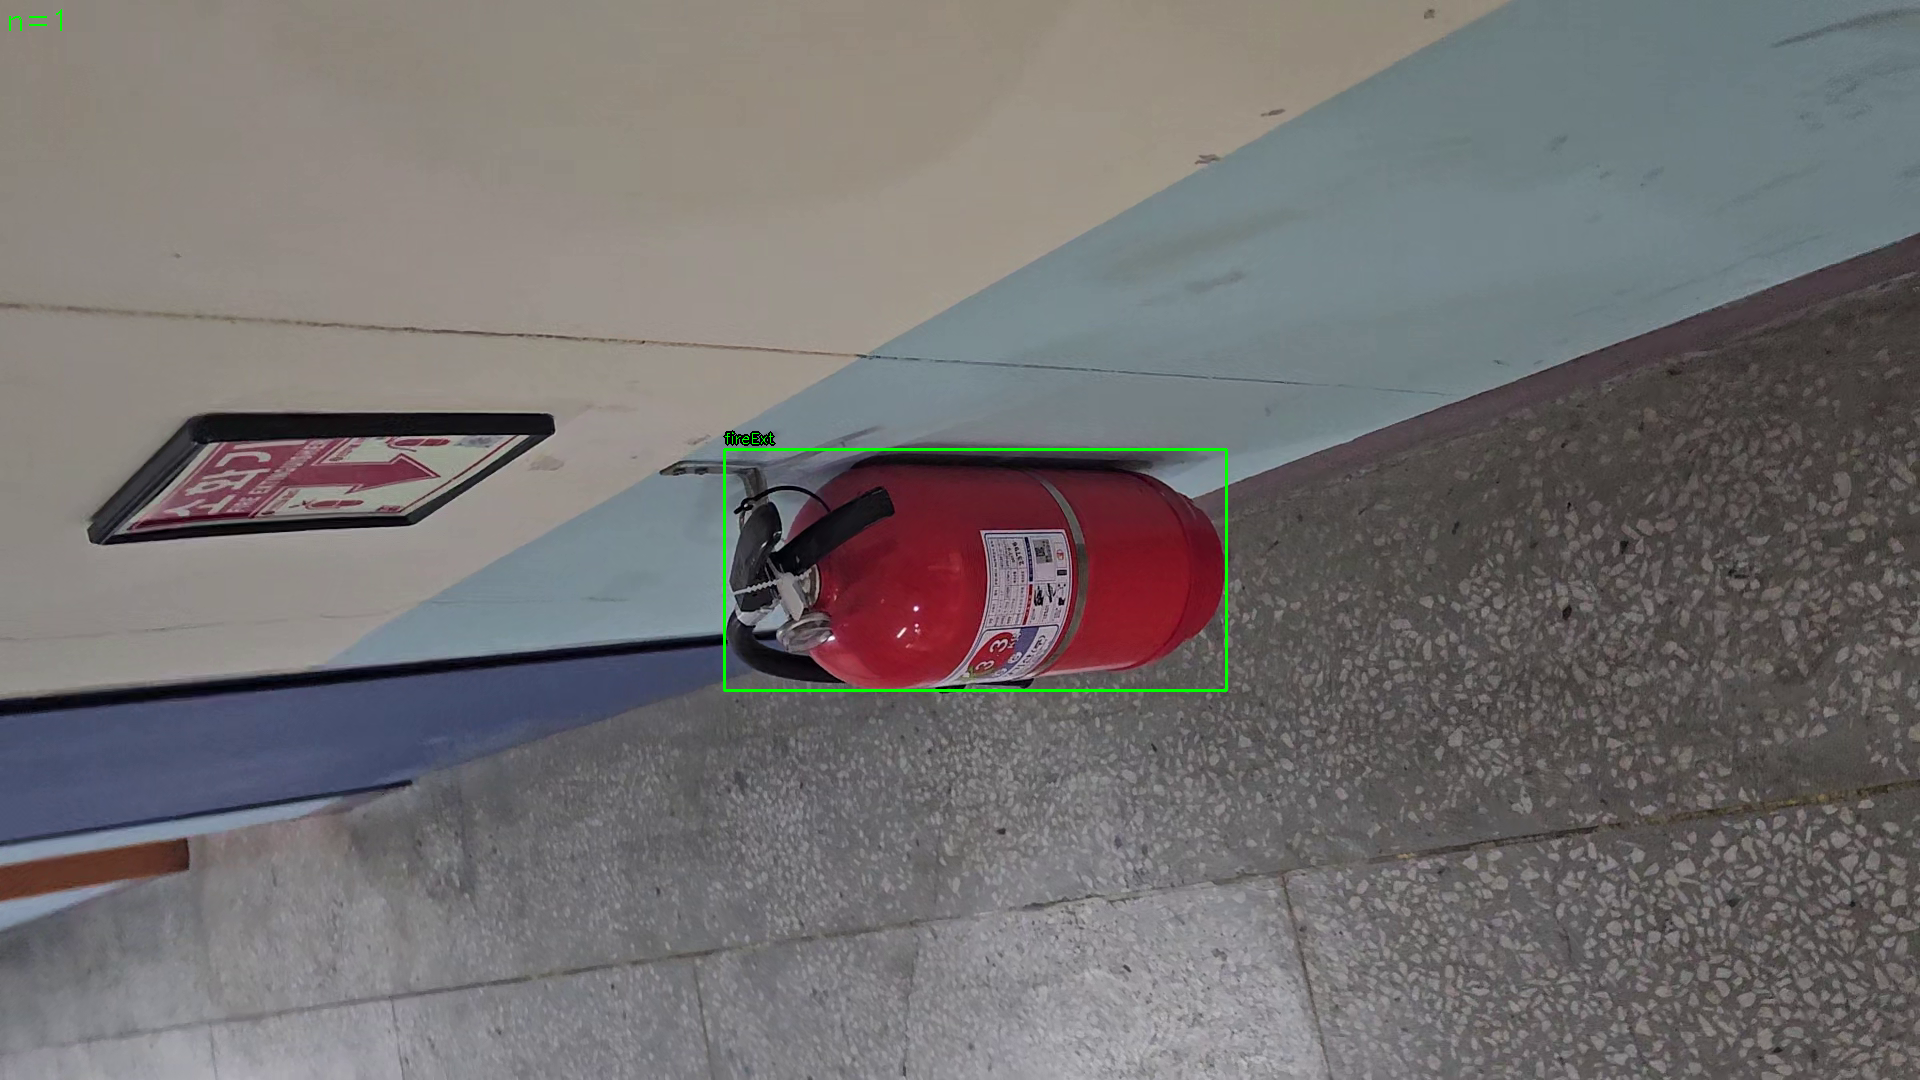lane: (724, 448, 1226, 691)
